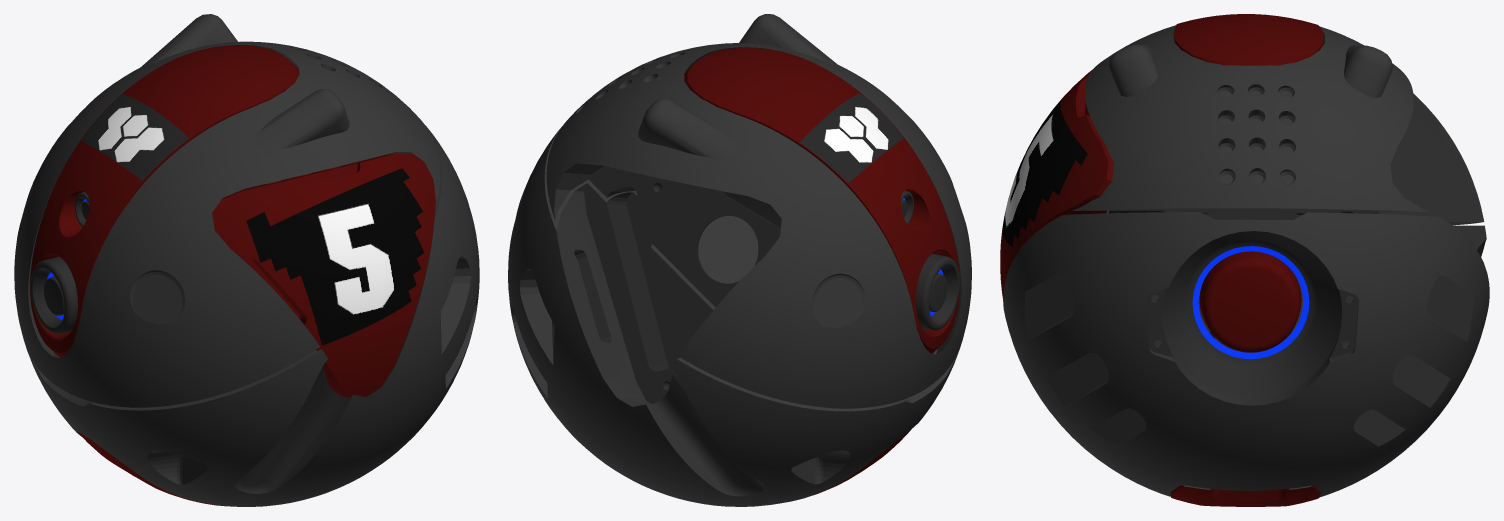
The model's file is modifieddroid.glb.
The picture shows the model from 3 angles, left to right: view 1: azimuth 30°, elevation 25°; view 2: azimuth 150°, elevation 25°; view 3: azimuth 270°, elevation 25°; orthographic projection. The views are drawn at different scales.
Visible parts, largest first — view 1: triangles; view 2: triangles; view 3: triangles.
Boxes of the visible parts, x1=… form: triangles: x1=14, y1=14, x2=479, y2=506; triangles: x1=508, y1=14, x2=971, y2=506; triangles: x1=1000, y1=14, x2=1489, y2=506.
Size of the model in its own units: 3.46 by 3.53 by 3.45.
Materials: 6 (2 with a texture image).
